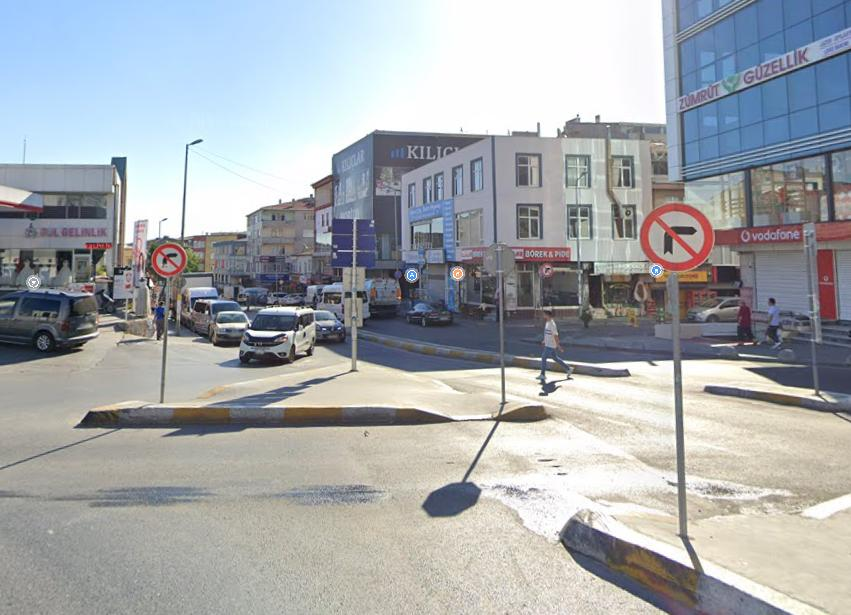rightturnsareforbidden: (642, 203, 714, 272), (152, 243, 185, 275), (542, 263, 554, 277)
